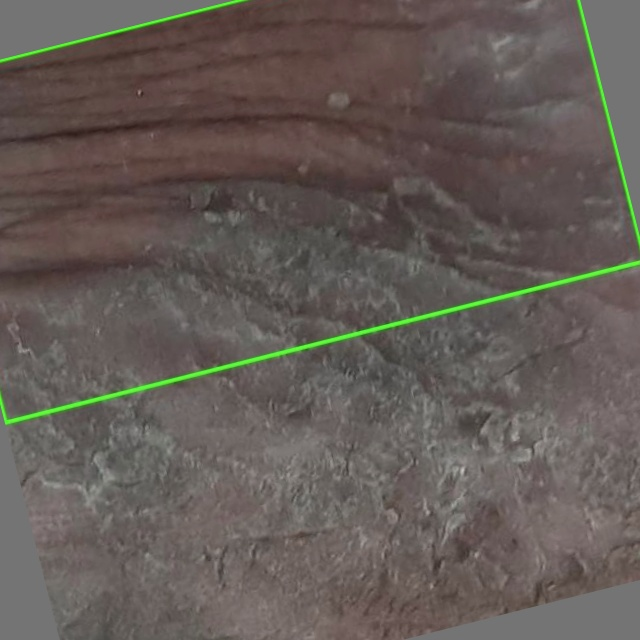Eczema: (0, 0, 639, 422)
